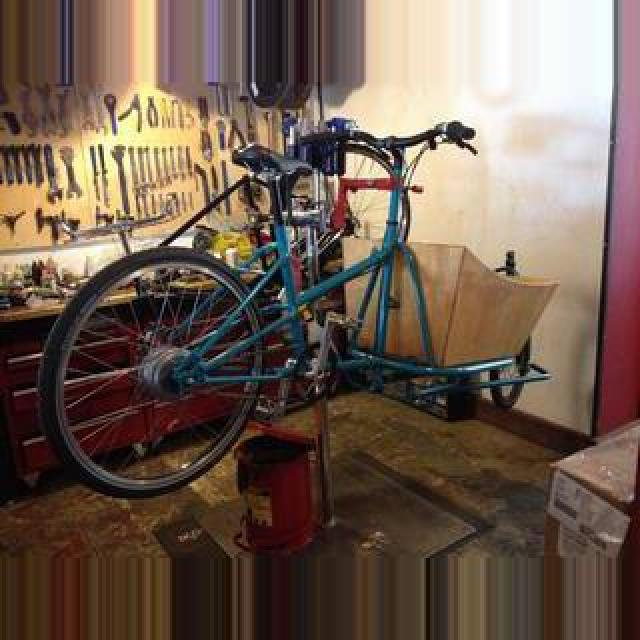Person: (23, 113, 525, 537)
